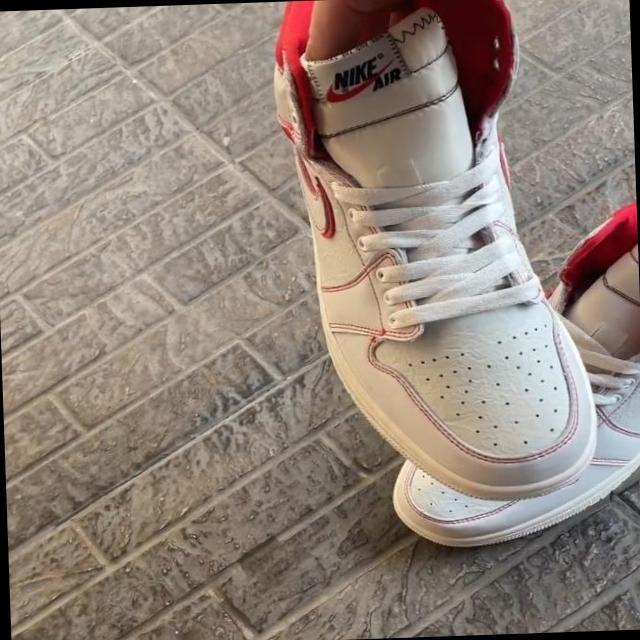nike_fake_jordan: (258, 0, 613, 513)
